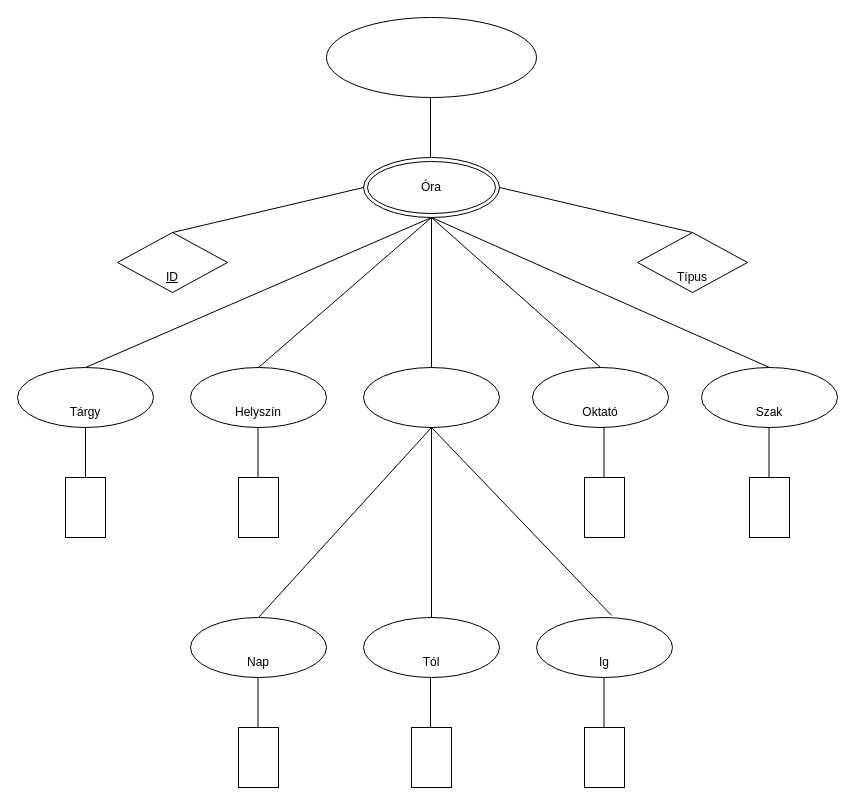
Image size: 855x805. Some labels were removed from this diagram. The centre of each missing label's shape, as x and y in pixels:
"FXCXM6_orarend" belongs at (x=431, y=57).
"Időpont" belongs at (x=431, y=397).
